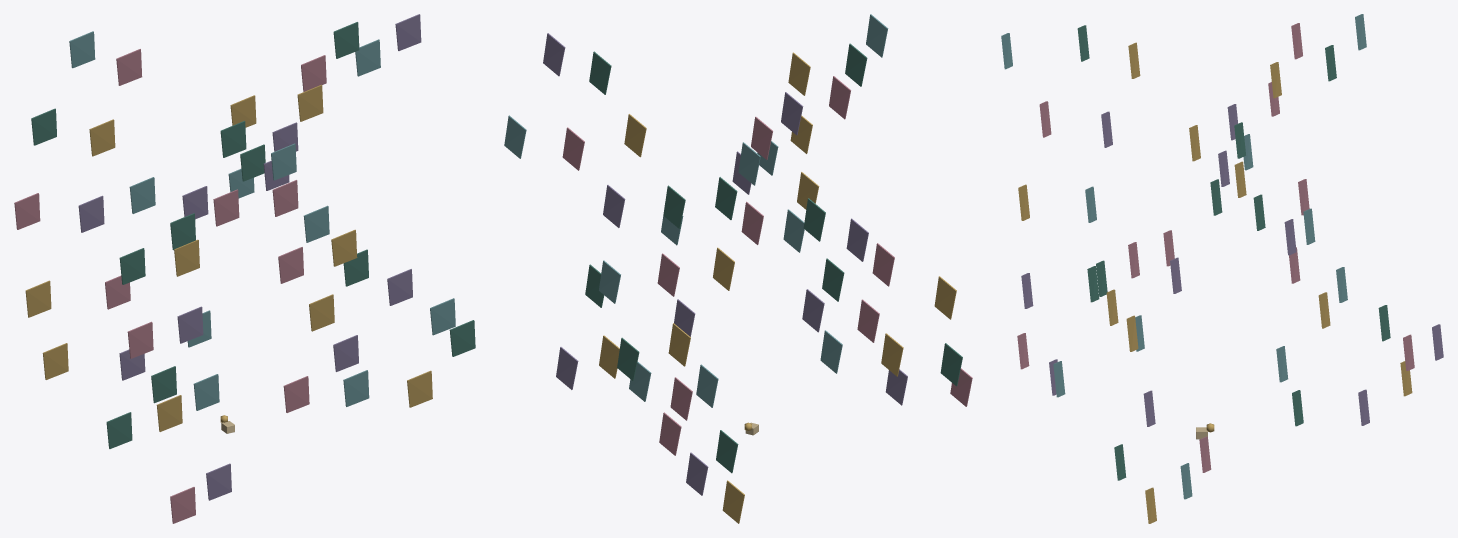
The model's file is confetti_burst.glb.
3 views of the same model, side by side, from view 1: azimuth 30°, elevation 25°; view 2: azimuth 150°, elevation 25°; view 3: azimuth 270°, elevation 25° (orthographic). The views are drawn at different scales.
Bounding box in the file's own units: 0.5962 × 0.5 × 0.5177.
